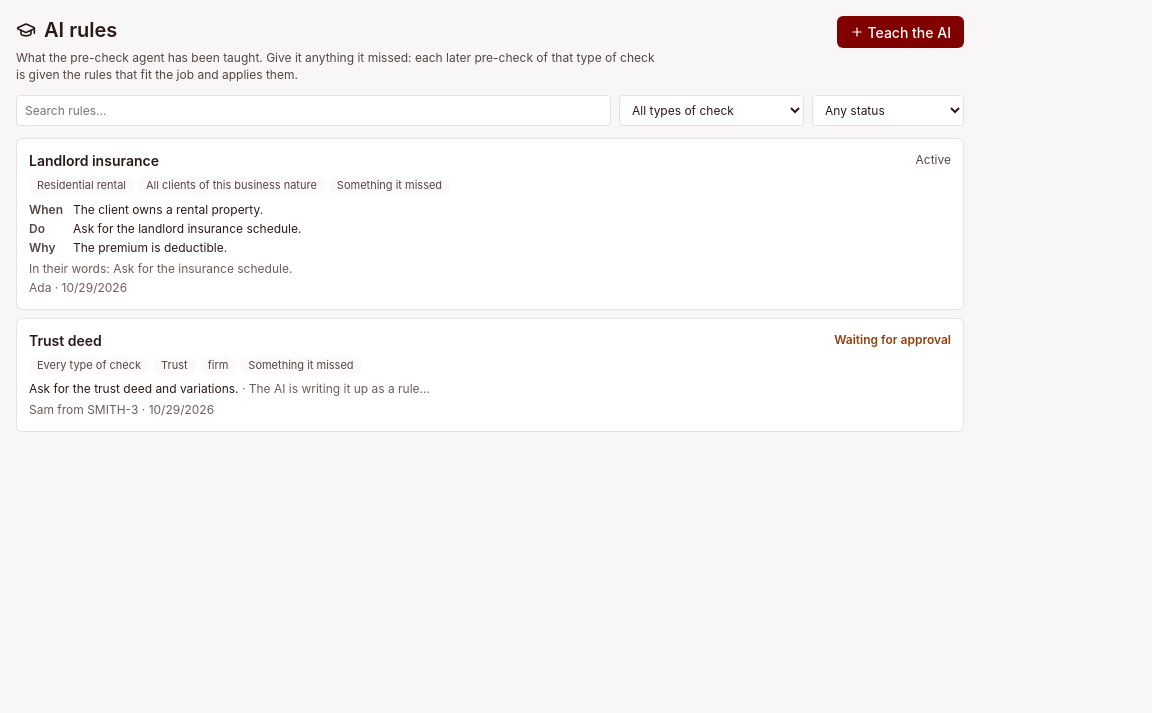
Test: AI rules (AFIT, 29 Oct 2026) › anyone else proposes a rule and cannot approve
Click the button "Teach the AI" at (900,32), box [836,16,964,48]
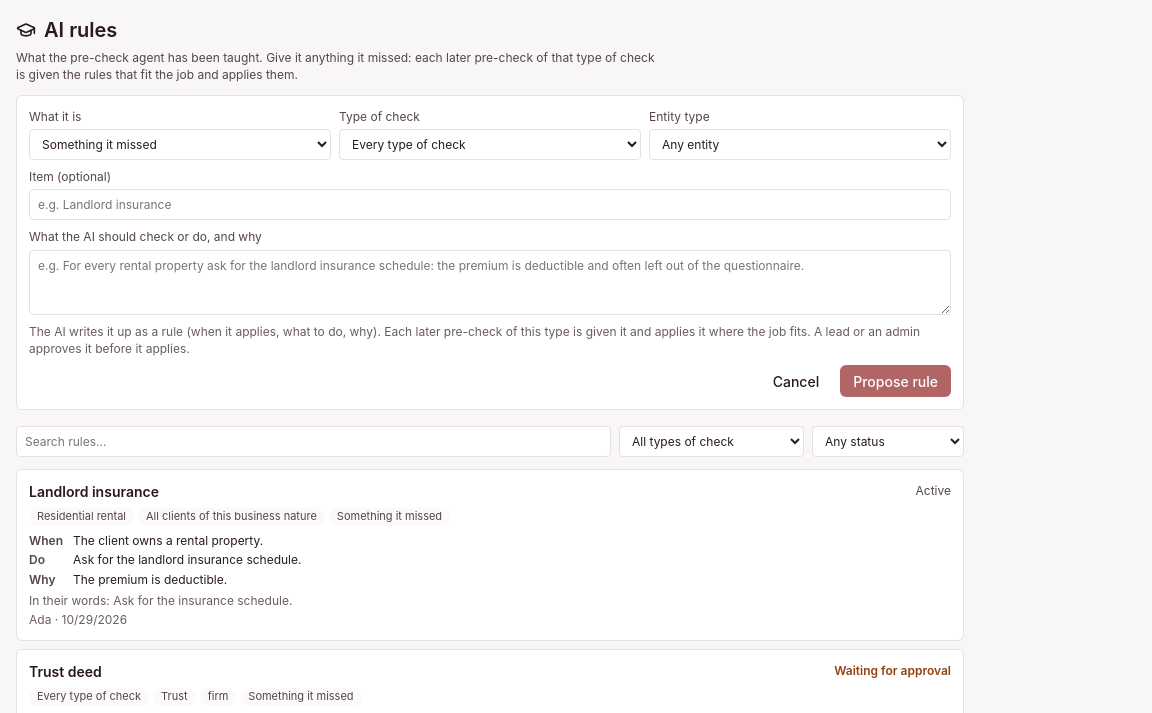
Now the button "Propose rule" is shown, box [840,365,951,397]
Now the text "A lead or an admin approves it before it applies" is shown, box [29,324,920,356]
